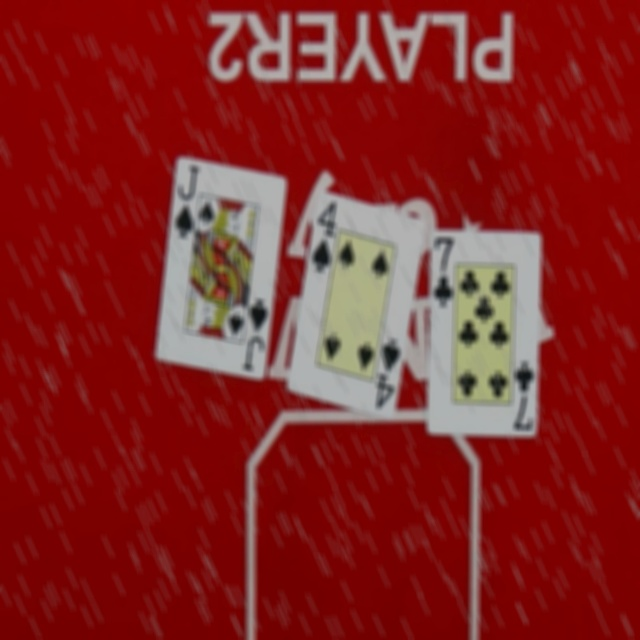4S: (306, 198, 340, 283), (371, 335, 402, 420)
7C: (430, 236, 458, 317), (512, 362, 537, 437)
JS: (242, 293, 270, 379), (169, 160, 198, 243)
